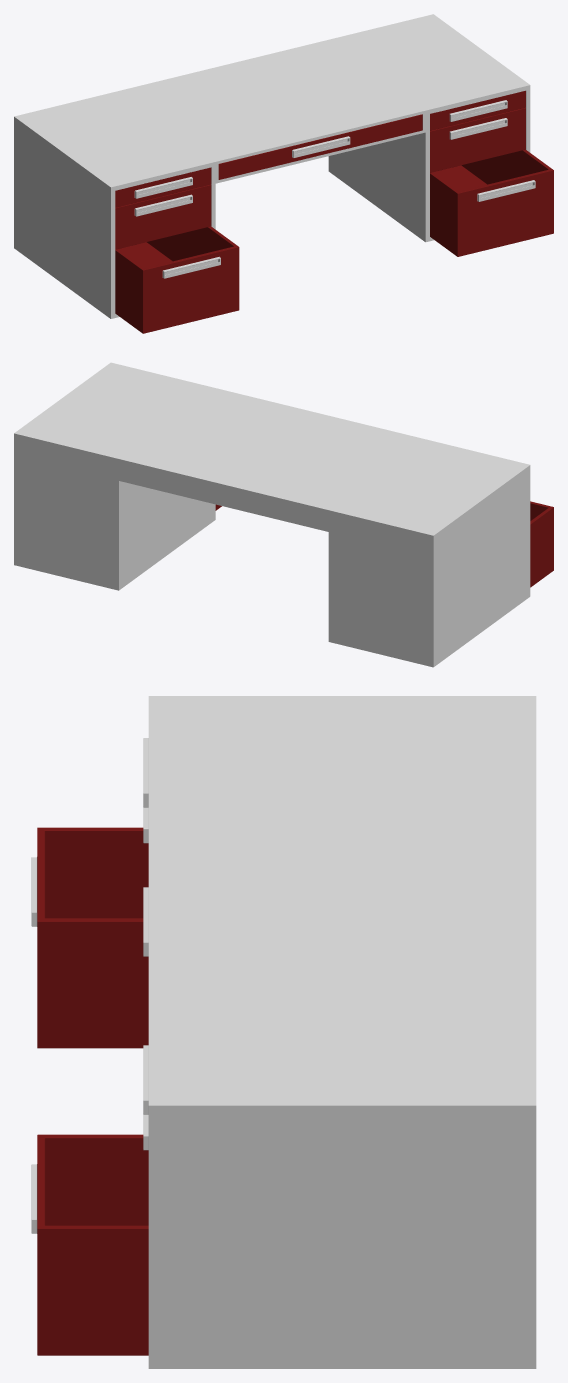
File: building_desk.glb
3 renders of one model, top to bottom at view 1: azimuth 30°, elevation 25°; view 2: azimuth 150°, elevation 25°; view 3: azimuth 270°, elevation 25°, orthographic. The views are drawn at different scales.
Visible parts, largest first — view 1: Cube, Cube.005, Cube.002, Cube.004, Cube.001, Cube.009, Cube.003, Cube.006; view 2: Cube, Cube.005; view 3: Cube, Cube.002, Cube.005.
Part boxes in pixels (x1,y1,x2,y2): Cube: [14, 14, 530, 318]; Cube.005: [115, 226, 239, 333]; Cube.002: [430, 149, 553, 256]; Cube.004: [115, 184, 211, 249]; Cube.001: [430, 107, 525, 172]; Cube.009: [218, 114, 422, 179]; Cube.003: [115, 167, 211, 207]; Cube.006: [430, 90, 525, 130]; Cube: [14, 362, 530, 667]; Cube.005: [530, 501, 553, 587]; Cube: [148, 696, 536, 1368]; Cube.002: [31, 1134, 148, 1355]; Cube.005: [31, 827, 148, 1048].
Bounding box in the file's own units: 2.32 × 0.6969 × 1.21.
